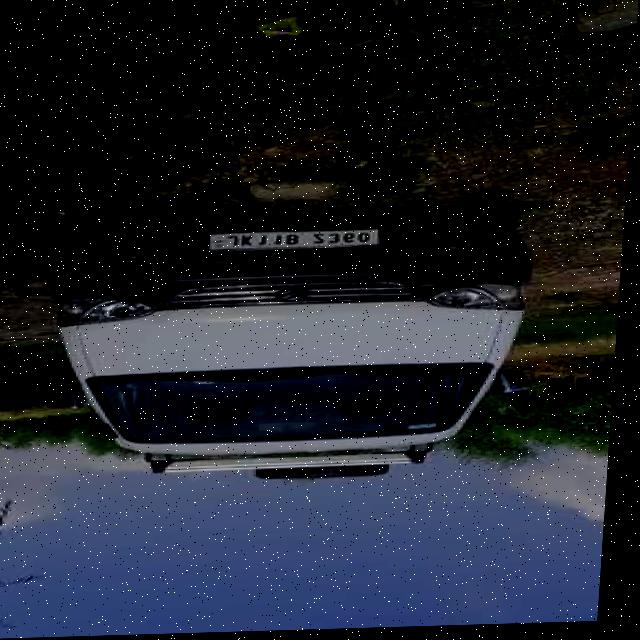plate: (208, 230, 389, 253)
